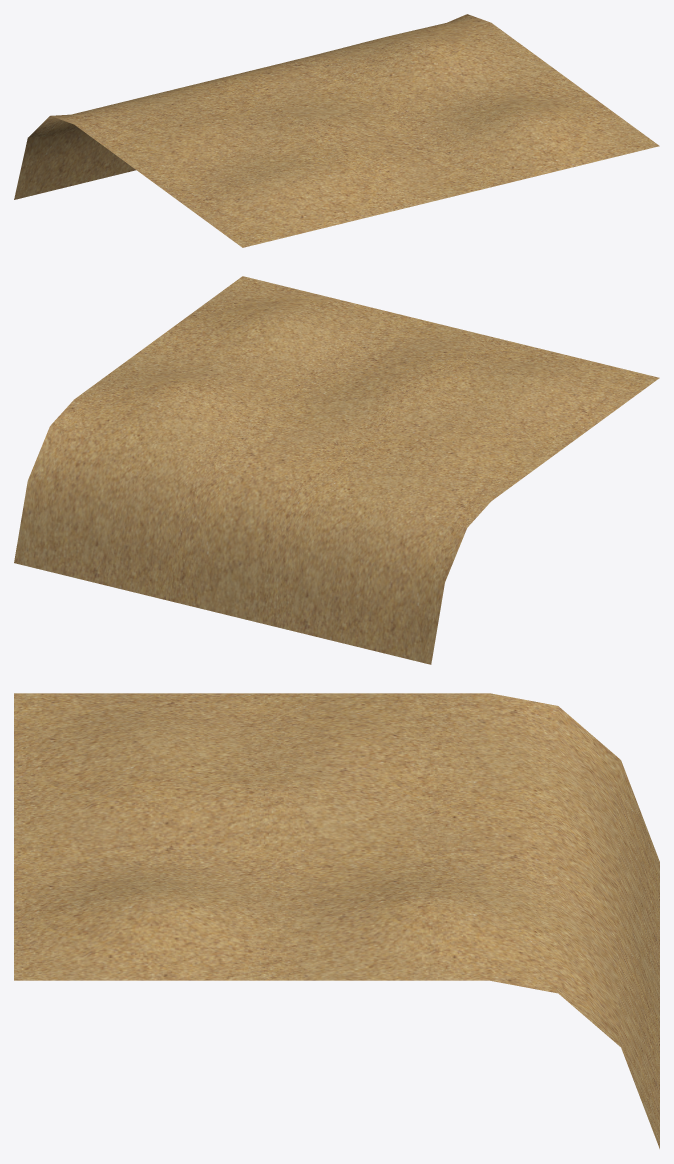
The model's file is backPath3.obj.
The picture shows the model from 3 angles, top to bottom: view 1: azimuth 30°, elevation 25°; view 2: azimuth 150°, elevation 25°; view 3: azimuth 270°, elevation 25°; orthographic projection. The views are drawn at different scales.
Visible parts, largest first — view 1: pPlane5; view 2: pPlane5; view 3: pPlane5.
Boxes of the visible parts, <box> form: pPlane5: <box>14,14,659,247</box>; pPlane5: <box>14,276,659,664</box>; pPlane5: <box>14,693,659,1148</box>.
Size of the model in its own units: 6 by 1.86 by 5.7.
Materials: 1 (1 with a texture image).
